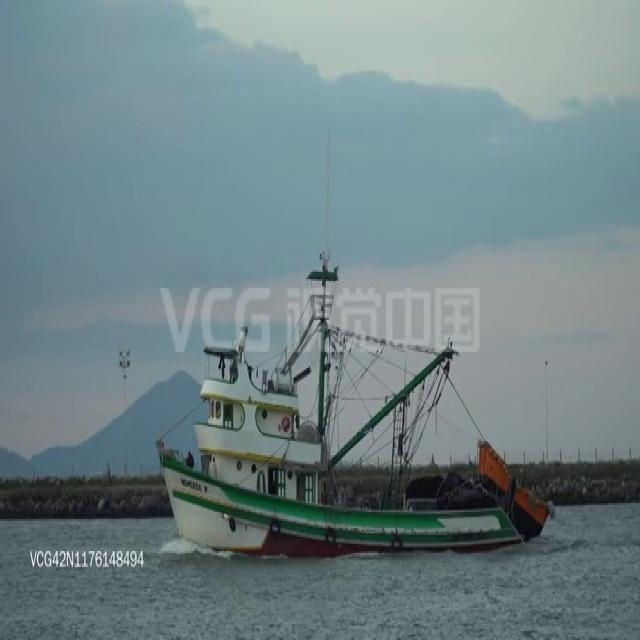fishing boat: (160, 302, 543, 551)
